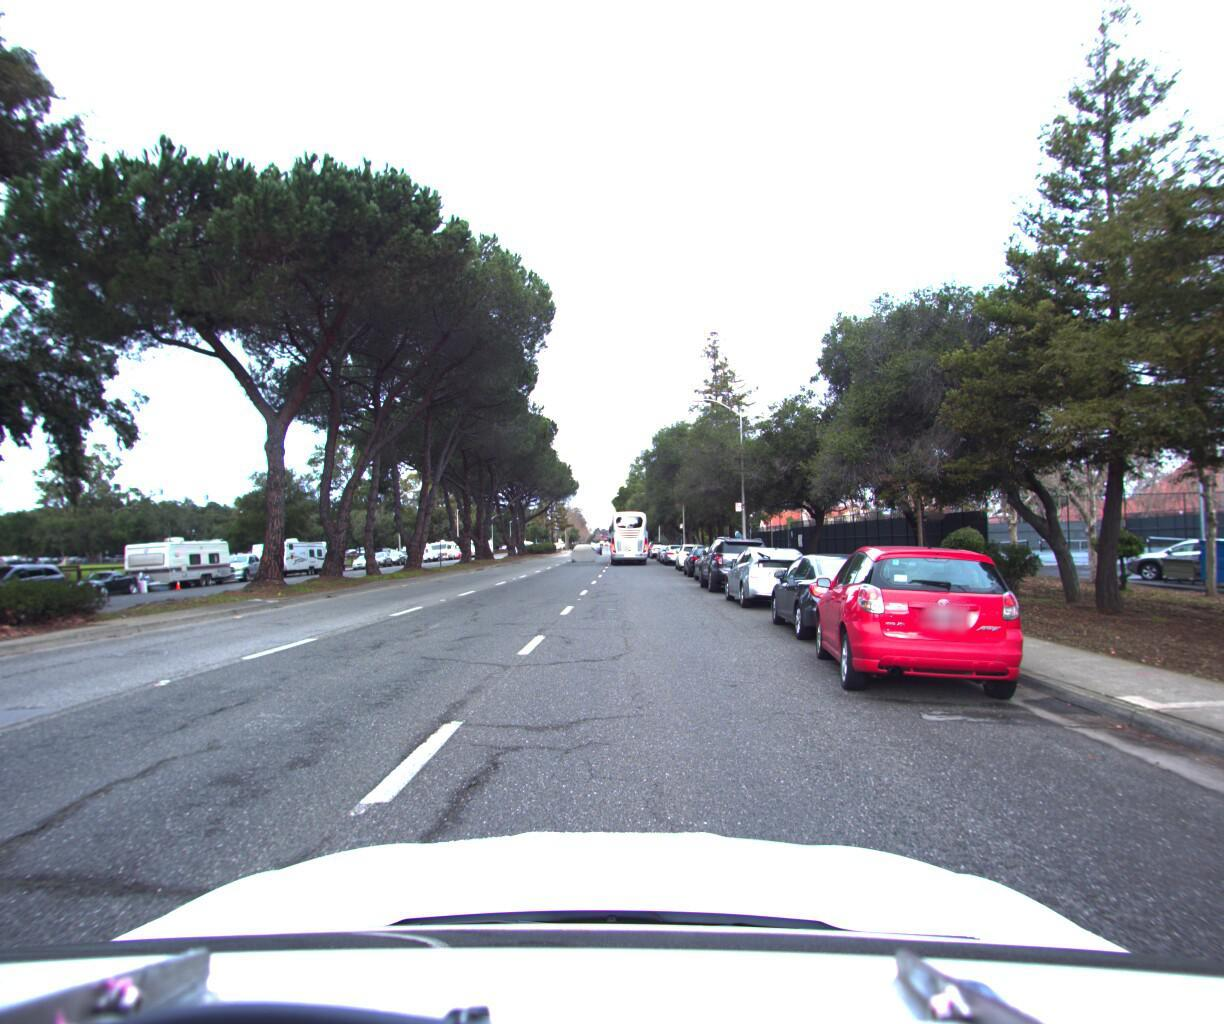bus: (604, 504, 650, 561)
car: (805, 533, 1046, 708), (764, 541, 922, 647), (720, 537, 821, 609), (694, 527, 776, 591), (59, 564, 146, 599), (690, 536, 747, 581), (211, 546, 280, 582), (681, 536, 727, 573), (673, 535, 710, 565), (363, 541, 396, 564), (661, 535, 692, 559), (349, 547, 383, 565), (570, 536, 595, 555)
other_vehicle: (105, 532, 238, 591), (247, 530, 332, 574)
